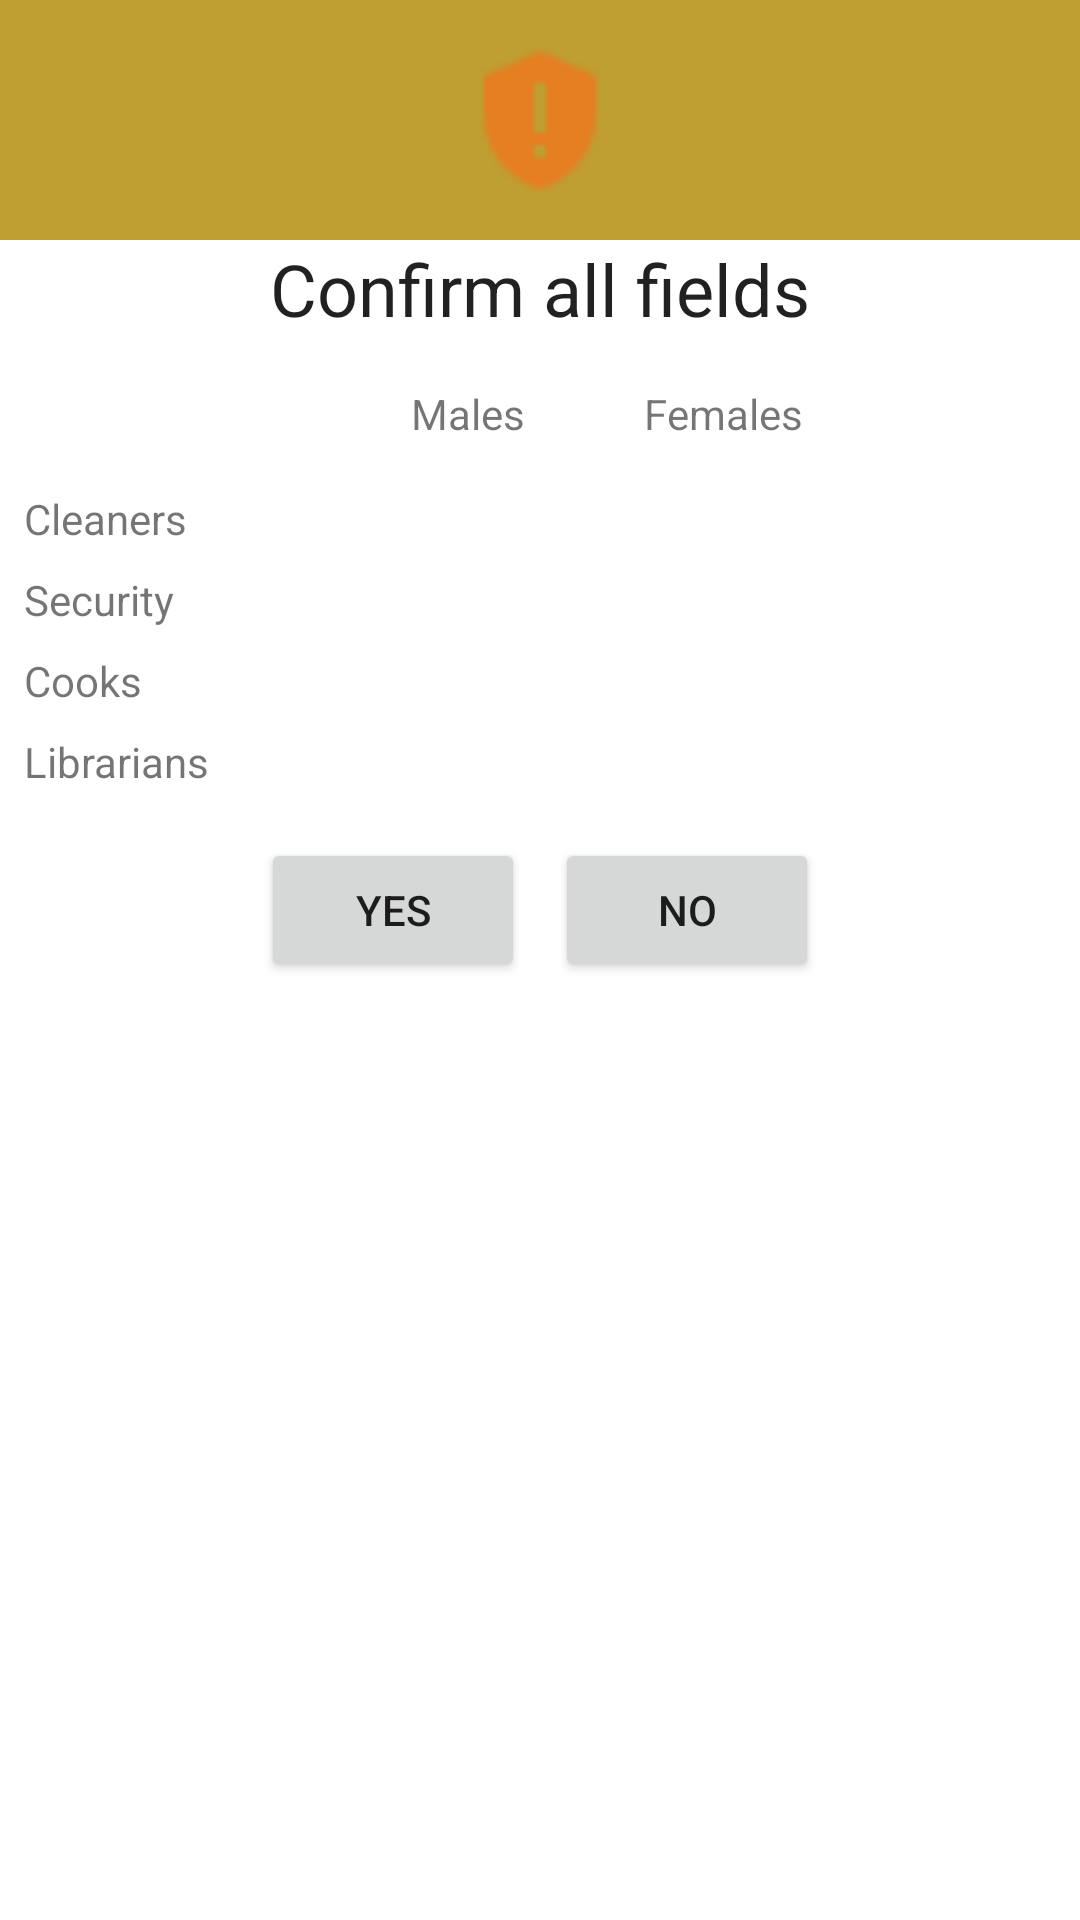

Icon click points for this 1080x1920 phone screenshot, format [x,y]:
warning: [540,120]
